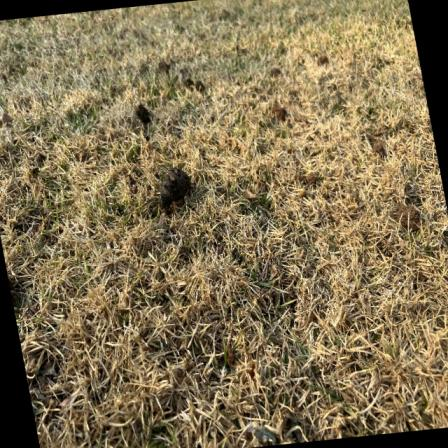dog-poop: (160, 164, 191, 206)
